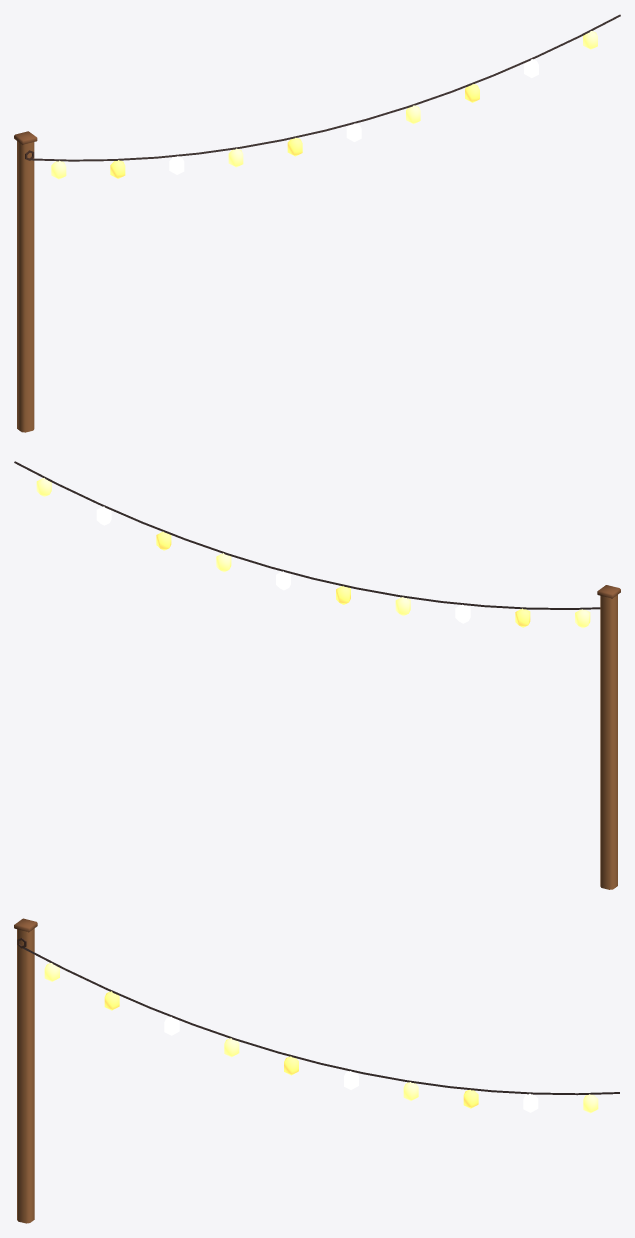
File: string_lights.glb
3 views of the same model, one above another, from view 1: azimuth 30°, elevation 25°; view 2: azimuth 150°, elevation 25°; view 3: azimuth 330°, elevation 25° (orthographic).
Visible parts, largest first — view 1: string_lights; view 2: string_lights; view 3: string_lights.
Part boxes in pixels (<box>): string_lights: <box>14,14,620,432</box>; string_lights: <box>14,461,620,889</box>; string_lights: <box>14,918,619,1223</box>.
Size of the model in its own units: 6.08 by 2.85 by 0.2011.
4 materials, 4 textured.
